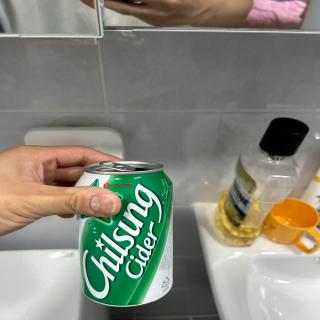chilsung: (71, 156, 178, 312)
